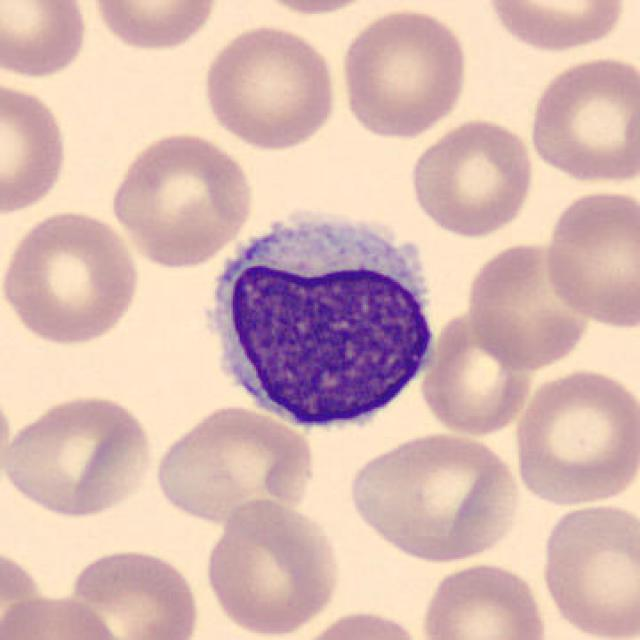Lymphocyte: (194, 196, 444, 439)
RBC: (343, 427, 525, 564), (106, 127, 258, 270), (150, 402, 316, 527), (201, 494, 345, 638), (0, 206, 144, 349), (2, 390, 158, 520), (508, 365, 638, 509), (336, 5, 473, 141), (199, 22, 340, 154), (464, 238, 592, 372), (407, 114, 537, 240), (416, 307, 537, 437), (524, 53, 638, 187), (539, 185, 638, 330), (537, 499, 638, 640), (64, 545, 203, 640), (416, 559, 551, 640), (0, 78, 71, 218), (478, 0, 630, 55), (0, 0, 91, 81), (86, 0, 222, 53), (2, 589, 126, 640), (289, 608, 426, 640), (240, 0, 391, 18), (0, 377, 14, 497)
